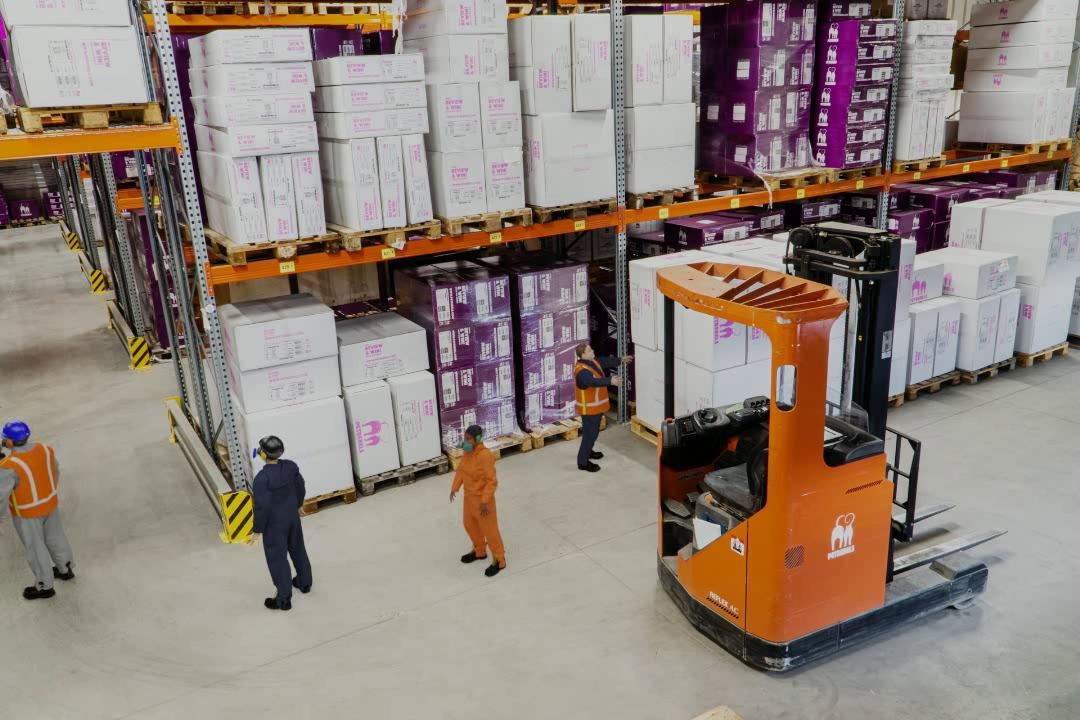Helmet: (3, 419, 29, 441), (256, 435, 286, 453)
Jacket: (0, 447, 64, 531), (572, 360, 610, 418)
Shoes: (481, 553, 510, 582), (24, 581, 59, 605), (50, 559, 81, 585), (574, 456, 604, 478), (259, 595, 294, 613), (289, 571, 313, 595), (457, 547, 490, 562), (582, 444, 605, 460)
